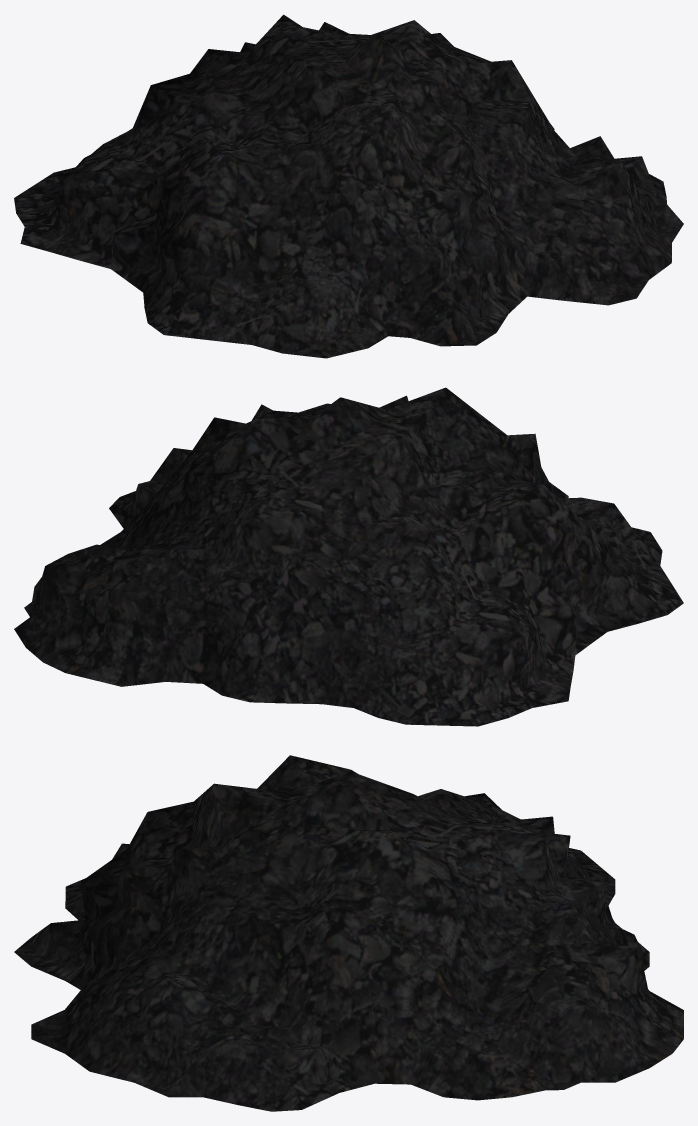
File: coal_pile01.dae
3 views of the same model, one above another, from view 1: azimuth 30°, elevation 25°; view 2: azimuth 150°, elevation 25°; view 3: azimuth 270°, elevation 25° (orthographic). The views are drawn at different scales.
Parts seen in each view (by area): view 1: coal_pile01; view 2: coal_pile01; view 3: coal_pile01.
Part boxes in pixels (box(x1,y1,x2,y2)): coal_pile01: box(14, 14, 683, 358); coal_pile01: box(14, 387, 683, 726); coal_pile01: box(14, 755, 683, 1111).
Size of the model in its own units: 2.93 by 0.9472 by 2.92.
